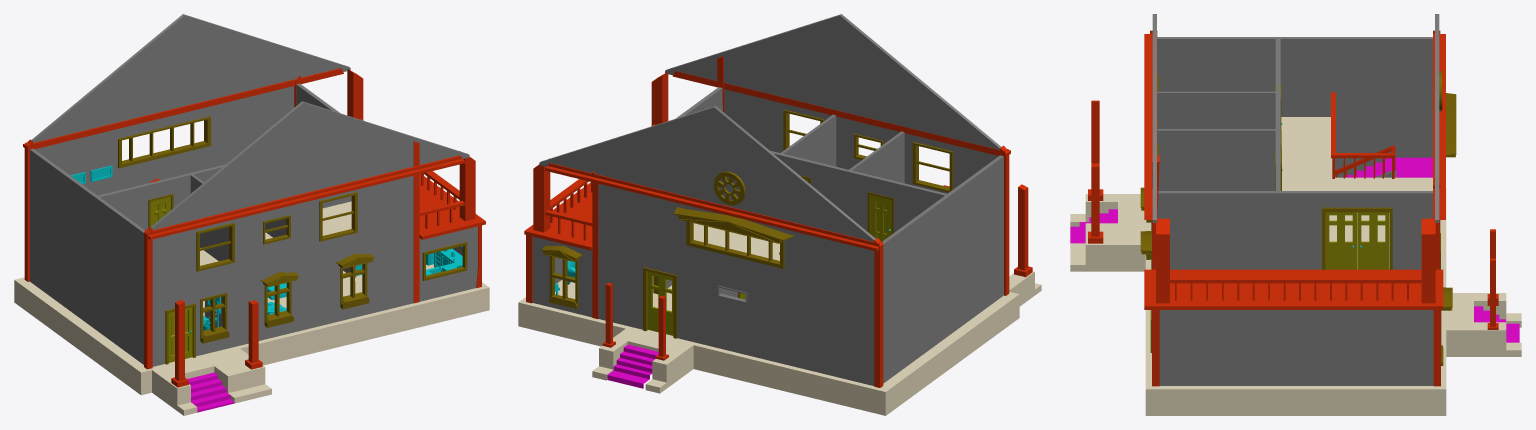
Rendered from casa_prototipo2.fbx.
3 views of the same model, side by side, from view 1: azimuth 30°, elevation 25°; view 2: azimuth 150°, elevation 25°; view 3: azimuth 270°, elevation 25° (orthographic). The views are drawn at different scales.
Visible parts, largest first — view 1: piso5, polySurface34, suelo, polySurface16, polySurface58, pCube30, pCube1, pCube62, polySurface14, polySurface64, polySurface6, polySurface26 (+18 smaller); view 2: piso5, polySurface100, polySurface58, suelo, pCube30, pCube1, polySurface34, polySurface26, polySurface63, pCube73, polySurface64, polySurface38 (+21 smaller); view 3: pCube4, pCube30, polySurface28, suelo, polySurface54, pCube53, polySurface48, pCube52, pCube62, pCube1, pCube73, puerta_trasera1 (×2) (+17 smaller).
Part boxes in pixels (<box>): piso5: <box>31,14,469,229</box>; polySurface34: <box>152,176,413,300</box>; suelo: <box>14,264,489,395</box>; polySurface16: <box>259,226,477,340</box>; polySurface58: <box>35,86,294,195</box>; pCube30: <box>30,148,144,298</box>; pCube1: <box>30,216,143,364</box>; pCube62: <box>150,346,271,415</box>; polySurface14: <box>152,275,258,366</box>; polySurface64: <box>144,155,465,239</box>; polySurface6: <box>200,263,369,343</box>; polySurface26: <box>98,164,351,229</box>; piso5: <box>539,14,1000,241</box>; polySurface100: <box>532,236,874,385</box>; polySurface58: <box>598,184,874,316</box>; suelo: <box>518,276,1019,415</box>; pCube30: <box>882,155,1003,313</box>; pCube1: <box>883,226,1003,383</box>; polySurface34: <box>724,89,998,193</box>; polySurface26: <box>770,150,946,232</box>; polySurface63: <box>544,163,882,251</box>; pCube73: <box>592,326,695,393</box>; polySurface64: <box>672,71,1010,155</box>; polySurface38: <box>533,72,668,232</box>; pCube4: <box>1159,310,1433,385</box>; pCube30: <box>1157,37,1432,117</box>; polySurface28: <box>1155,191,1432,269</box>; suelo: <box>1145,188,1446,415</box>; polySurface54: <box>1144,269,1443,309</box>; pCube53: <box>1157,129,1279,190</box>; polySurface48: <box>1281,117,1432,269</box>; pCube52: <box>1157,91,1279,128</box>; pCube62: <box>1070,194,1151,271</box>; pCube1: <box>1335,117,1432,177</box>; pCube73: <box>1441,293,1521,356</box>; puerta_trasera1 (×2): <box>1325,212,1389,269</box>.
Bounding box in the file's own units: 16.83 × 11.54 × 15.94.
